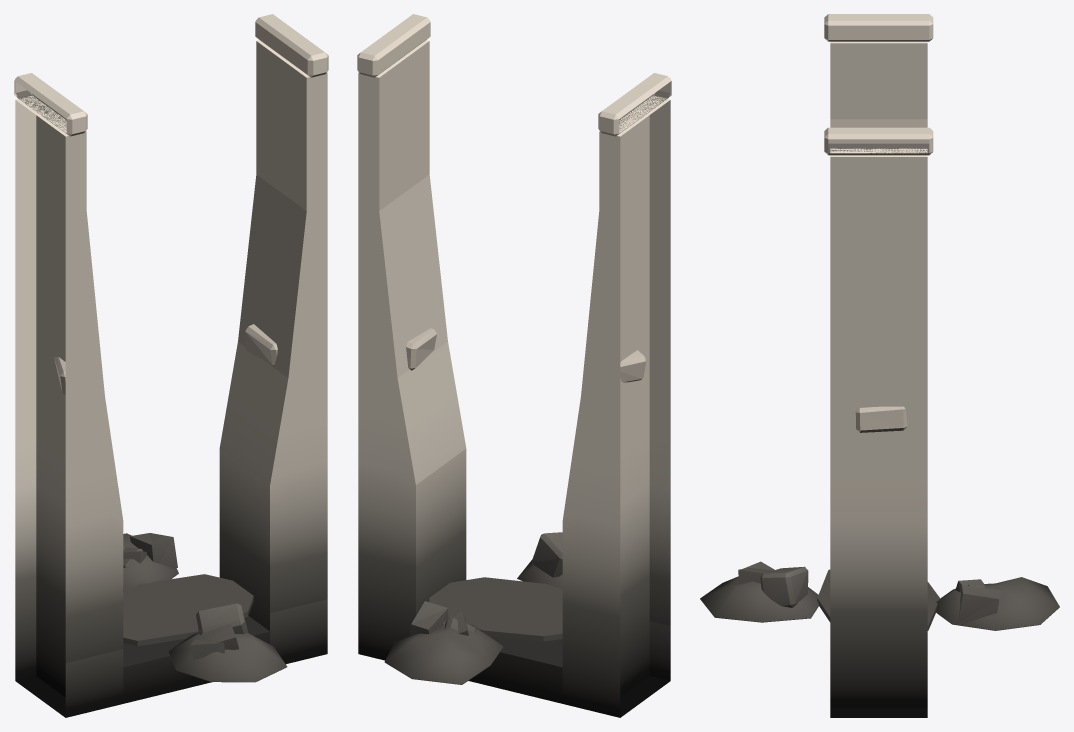
Rendered from SM_VKI_Wall_Dungeon_Breach_150_Full.fbx.
The picture shows the model from 3 angles, left to right: view 1: azimuth 30°, elevation 25°; view 2: azimuth 150°, elevation 25°; view 3: azimuth 270°, elevation 25°; orthographic projection. The views are drawn at different scales.
Visible parts, largest first — view 1: SM_VKI_Wall_Dungeon_Breach_150_Full.001; view 2: SM_VKI_Wall_Dungeon_Breach_150_Full.001; view 3: SM_VKI_Wall_Dungeon_Breach_150_Full.001.
Part boxes in pixels (bbox=[...]): SM_VKI_Wall_Dungeon_Breach_150_Full.001: bbox=[14, 14, 328, 717]; SM_VKI_Wall_Dungeon_Breach_150_Full.001: bbox=[357, 14, 671, 717]; SM_VKI_Wall_Dungeon_Breach_150_Full.001: bbox=[700, 14, 1059, 717].
Bounding box in the file's own units: 1.5 × 3.3 × 1.85.
